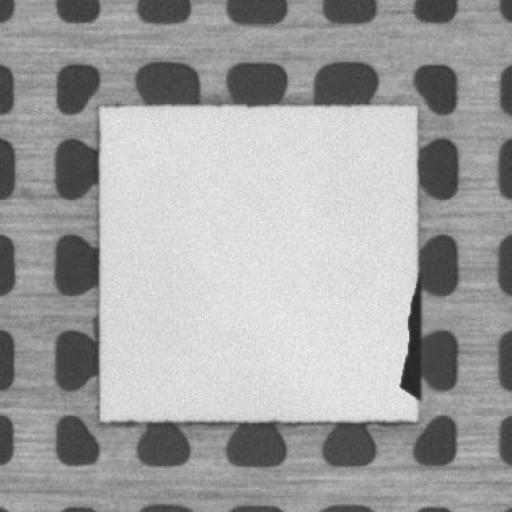DIE_BROKEN: (394, 273, 423, 402)
